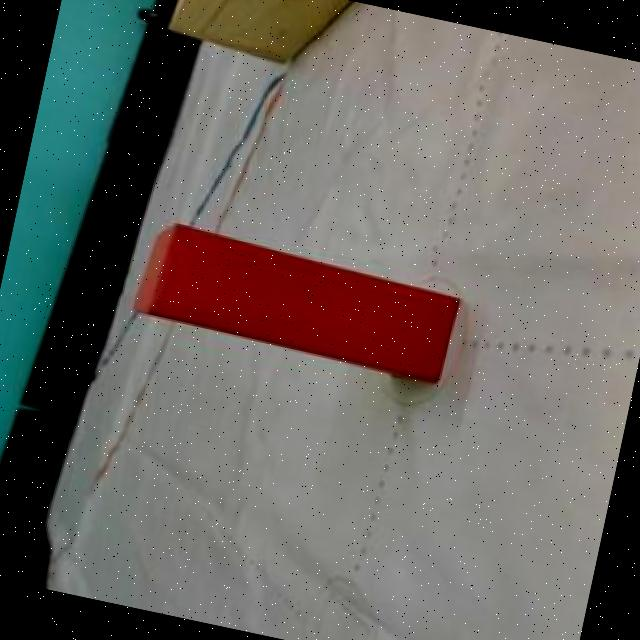redbox: (132, 215, 464, 382)
